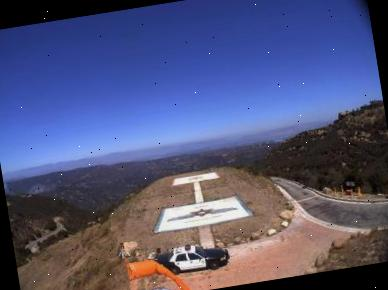smoke: (3, 171, 50, 200)
